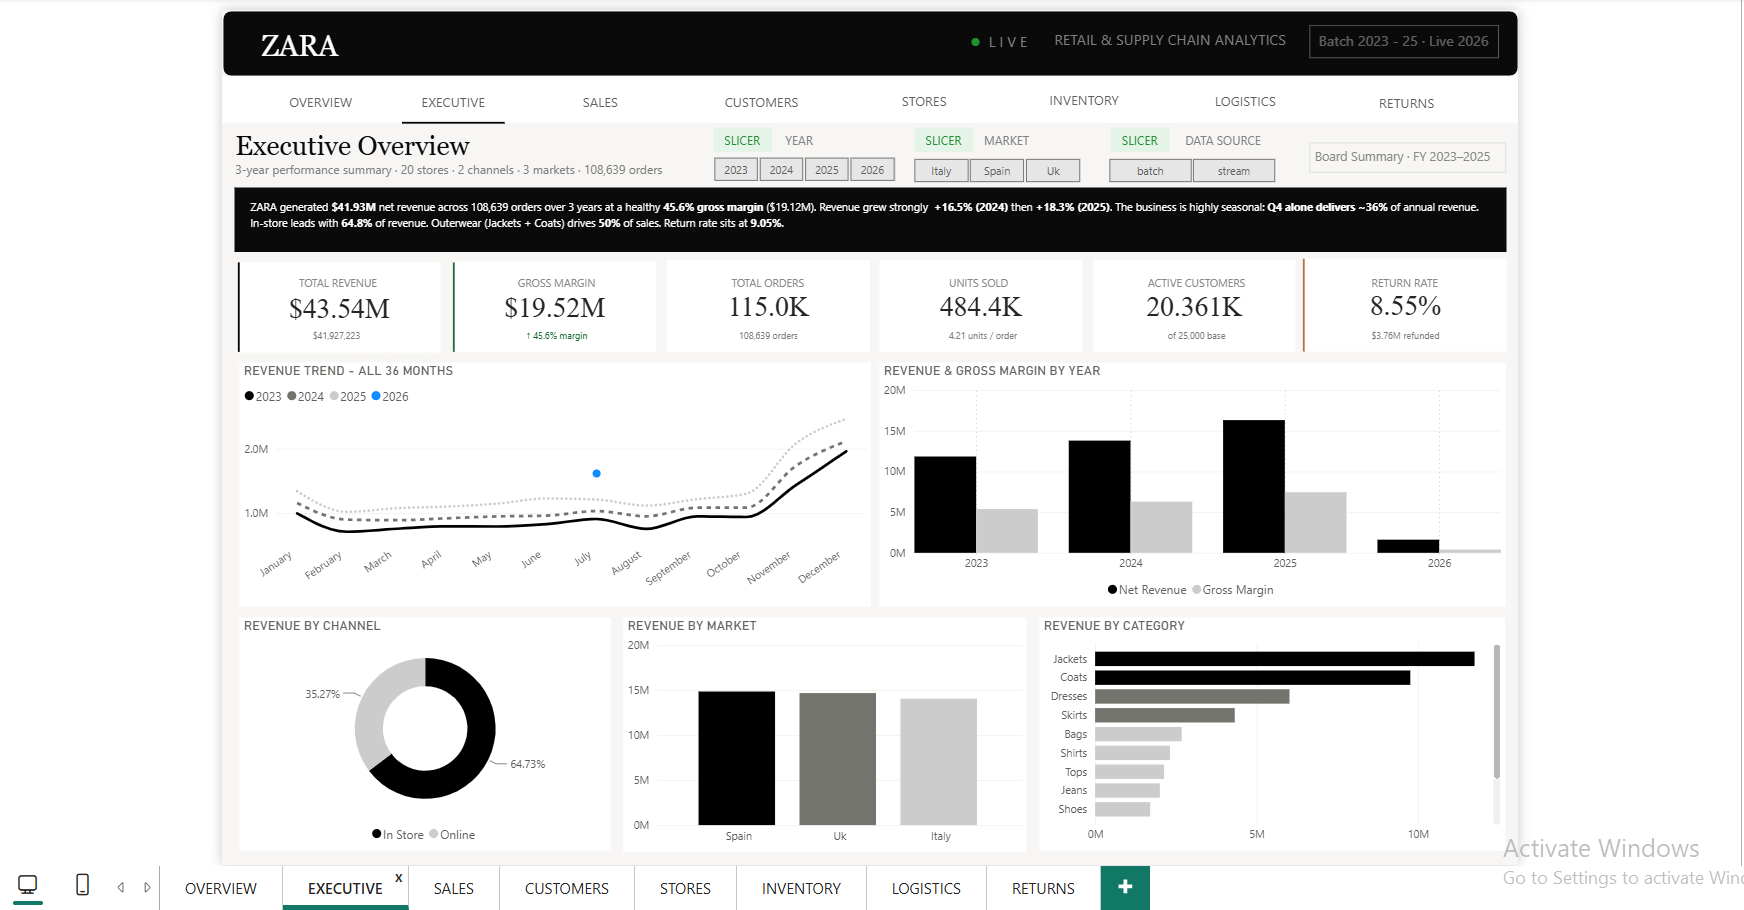

This screenshot's page, from the dashboard's own definition file:
{"tool":"powerbi","page":{"name":"EXECUTIVE","canvas":[1440,950],"ordinal":1},"visuals":[{"type":"shape","box":[1.7,1.7,1438.3,71.7],"z":0},{"type":"textbox","box":[39.2,16.2,112.2,48.6],"z":1000},{"type":"shape","box":[0,73.3,1440,51.7],"z":2000},{"type":"textbox","box":[10,129.1,292.7,50.9],"z":3000},{"type":"textbox","box":[10,162.7,527.3,29.1],"z":4000},{"type":"textbox","box":[1208.3,146.7,218.3,33.3],"z":5000},{"type":"shape","box":[13.3,196.7,1413.3,71.7],"z":6000},{"type":"textbox","box":[26.1,204.3,1382.6,58],"z":7000},{"type":"card","fields":{"Values":["_Measures.Active Customers"]},"box":[967.7,277.7,224.6,102.3],"z":8000},{"type":"card","fields":{"Values":["_Measures.Units Sold"]},"box":[730,277.7,225.4,102.3],"z":9000},{"type":"card","fields":{"Values":["_Measures.Net Revenue"]},"box":[18.5,280,224.6,100],"z":10000},{"type":"card","fields":{"Values":["_Measures.Gross Margin"]},"box":[256.9,279.2,225.4,100.8],"z":11000},{"type":"card","fields":{"Values":["_Measures.Total Orders"]},"box":[493.8,277.7,225.4,102.3],"z":12000},{"type":"shape","box":[12.3,280.8,12.3,99.2],"z":13000},{"type":"shape","box":[250.8,280.8,12.3,99.2],"z":14000},{"type":"textbox","box":[80.8,288.5,109.2,29.2],"z":15000},{"type":"textbox","box":[95.4,346.2,71.5,29.2],"z":16000},{"type":"textbox","box":[323.1,288.5,110,29.2],"z":17000},{"type":"textbox","box":[561.5,288.5,92.3,29.2],"z":18000},{"type":"textbox","box":[803.1,288.5,90.8,29.2],"z":19000},{"type":"textbox","box":[803.1,346.2,90.8,27.7],"z":20000},{"type":"textbox","box":[1023.8,288.5,139.2,29.2],"z":21000},{"type":"textbox","box":[1045.4,346.2,86.9,27.7],"z":22000},{"type":"card","fields":{"Values":["_Measures.Return Rate"]},"box":[1202.3,276.9,224.6,103.1],"z":23000},{"type":"textbox","box":[1271.5,288.5,96.9,29.2],"z":24000},{"type":"textbox","box":[1271.5,346.2,96.9,27.7],"z":25000},{"type":"shape","box":[1196.2,276.9,12.3,103.1],"z":26000},{"type":"textbox","box":[333.1,346.2,80.8,27.7],"z":27000},{"type":"textbox","box":[569.2,346.2,84.6,27.7],"z":28000},{"type":"lineChart","title":"REVENUE TREND - ALL 36 MONTHS","fields":{"Category":["gold dim_date.full_date.Variation.Date Hierarchy.Year","gold dim_date.full_date.Variation.Date Hierarchy.Quarter","gold dim_date.full_date.Variation.Date Hierarchy.Month","gold dim_date.full_date.Variation.Date Hierarchy.Day"],"Series":["gold dim_date.year"],"Y":["_Measures.Net Revenue"]},"box":[18.8,391.3,701.4,271],"z":29000},{"type":"clusteredColumnChart","title":"REVENUE & GROSS MARGIN BY YEAR","fields":{"Category":["gold dim_date.full_date.Variation.Date Hierarchy.Year"],"Y":["_Measures.Net Revenue","_Measures.Gross Margin"]},"box":[730.4,391.3,695.7,271],"z":30000},{"type":"donutChart","title":"REVENUE BY CHANNEL","fields":{"Category":["gold dim_channel.channel_name"],"Y":["_Measures.Net Revenue"]},"box":[18.8,675.4,413,259.4],"z":31000},{"type":"columnChart","title":"REVENUE BY MARKET","fields":{"Category":["gold dim_customers.country"],"Y":["_Measures.Net Revenue"]},"box":[446.4,675.4,447.8,260.9],"z":32000},{"type":"barChart","title":"REVENUE BY CATEGORY","fields":{"Category":["gold dim_products.category"],"Y":["_Measures.Net Revenue"]},"box":[908.7,675.4,517.4,259.4],"z":33000},{"type":"shape","box":[200,103,114,45],"z":34000},{"type":"actionButton","box":[182.9,75.7,147.4,53.9],"z":35000},{"type":"actionButton","box":[330.4,74.3,179.7,54.1],"z":36000},{"type":"actionButton","box":[510.1,75.7,179.7,54.1],"z":37000},{"type":"actionButton","box":[689.6,73.2,180,54.7],"z":38000},{"type":"actionButton","box":[867.5,71.6,180,54.7],"z":39000},{"type":"actionButton","box":[1047.6,73.8,180,54.3],"z":40000},{"type":"actionButton","box":[1226.7,75,180,54.4],"z":41000},{"type":"actionButton","box":[35.6,75.6,147.4,53.7],"z":42000},{"type":"textbox","box":[1208.3,16.7,210,36.7],"z":43000},{"type":"textbox","box":[911.7,16.7,283.3,36.7],"z":44000},{"type":"textbox","box":[826.7,16.7,85,36.7],"z":45000},{"type":"slicer","fields":{"Values":["gold fact_sales.source_system"]},"box":[960,158.5,234.6,34.6],"z":46000},{"type":"textbox","box":[988.2,130.9,65.5,27.3],"z":47000},{"type":"textbox","box":[1065.4,131.2,107.5,27.2],"z":48000},{"type":"slicer","fields":{"Values":["gold dim_customers.country"]},"box":[743.6,158.2,234.5,34.5],"z":49000},{"type":"textbox","box":[770,130.9,65.5,27.3],"z":50000},{"type":"textbox","box":[842.2,131.1,70,31.1],"z":51000},{"type":"slicer","fields":{"Values":["gold dim_date.full_date.Variation.Date Hierarchy.Year"]},"box":[520.9,157.3,250,34.5],"z":52000},{"type":"textbox","box":[546.4,130,65.5,27.3],"z":53000},{"type":"textbox","box":[620.9,130,49.1,27.3],"z":54000}]}

Visuals, with their boxes on the page's 1440x950 design canvas (x1, y1, x2, y2). These are canvas units, not pixel positions in the 1744x910 screenshot, which may show the page scaled, cropped or inside an application window:
shape: [2,2,1440,73]
textbox: [39,16,151,65]
shape: [0,73,1440,125]
textbox: [10,129,303,180]
textbox: [10,163,537,192]
textbox: [1208,147,1427,180]
shape: [13,197,1427,268]
textbox: [26,204,1409,262]
card - _Measures.Active Customers: [968,278,1192,380]
card - _Measures.Units Sold: [730,278,955,380]
card - _Measures.Net Revenue: [18,280,243,380]
card - _Measures.Gross Margin: [257,279,482,380]
card - _Measures.Total Orders: [494,278,719,380]
shape: [12,281,25,380]
shape: [251,281,263,380]
textbox: [81,288,190,318]
textbox: [95,346,167,375]
textbox: [323,288,433,318]
textbox: [562,288,654,318]
textbox: [803,288,894,318]
textbox: [803,346,894,374]
textbox: [1024,288,1163,318]
textbox: [1045,346,1132,374]
card - _Measures.Return Rate: [1202,277,1427,380]
textbox: [1272,288,1368,318]
textbox: [1272,346,1368,374]
shape: [1196,277,1208,380]
textbox: [333,346,414,374]
textbox: [569,346,654,374]
"REVENUE TREND - ALL 36 MONTHS" lineChart: [19,391,720,662]
"REVENUE & GROSS MARGIN BY YEAR" clusteredColumnChart: [730,391,1426,662]
"REVENUE BY CHANNEL" donutChart: [19,675,432,935]
"REVENUE BY MARKET" columnChart: [446,675,894,936]
"REVENUE BY CATEGORY" barChart: [909,675,1426,935]
shape: [200,103,314,148]
actionButton: [183,76,330,130]
actionButton: [330,74,510,128]
actionButton: [510,76,690,130]
actionButton: [690,73,870,128]
actionButton: [868,72,1048,126]
actionButton: [1048,74,1228,128]
actionButton: [1227,75,1407,129]
actionButton: [36,76,183,129]
textbox: [1208,17,1418,53]
textbox: [912,17,1195,53]
textbox: [827,17,912,53]
slicer - gold fact_sales.source_system: [960,158,1195,193]
textbox: [988,131,1054,158]
textbox: [1065,131,1173,158]
slicer - gold dim_customers.country: [744,158,978,193]
textbox: [770,131,836,158]
textbox: [842,131,912,162]
slicer - gold dim_date.full_date.Variation.Date Hierarchy.Year: [521,157,771,192]
textbox: [546,130,612,157]
textbox: [621,130,670,157]
